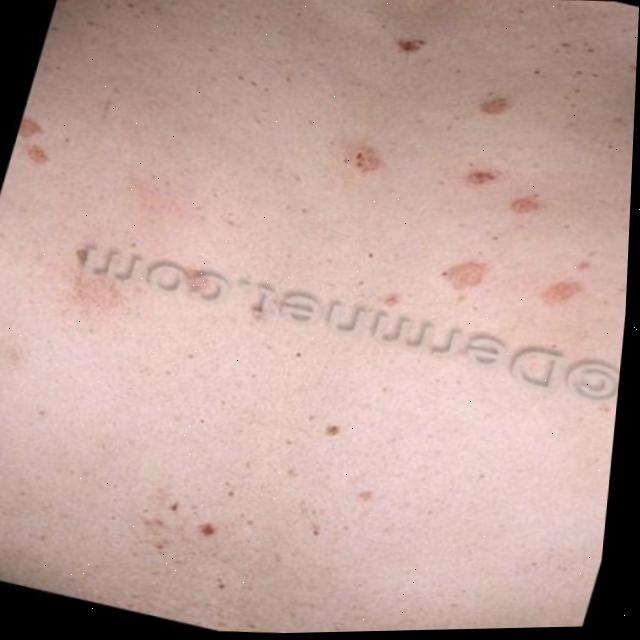Eczema: (335, 0, 640, 316), (9, 117, 63, 174)
